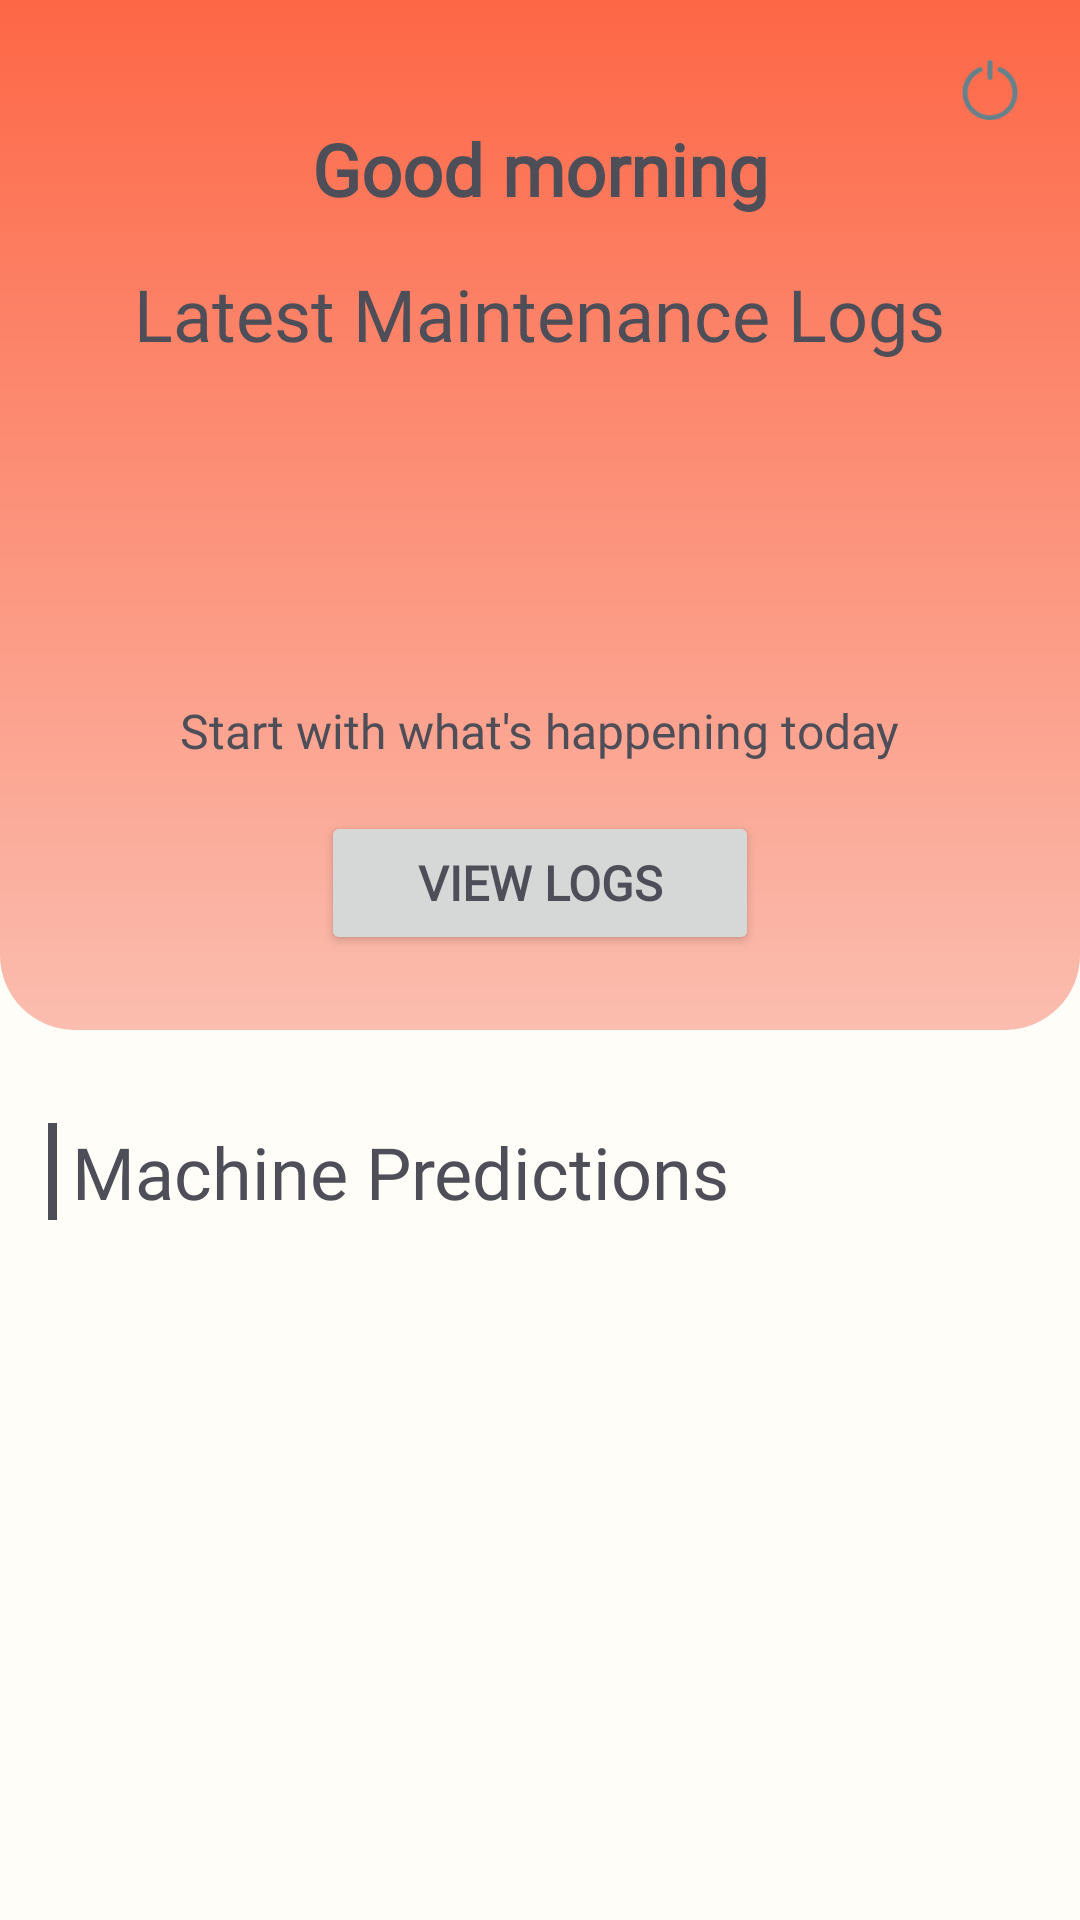

Icons on this 1080*1920 Android screen, each with the point to tap as [x,y]:
power: [990,90]
